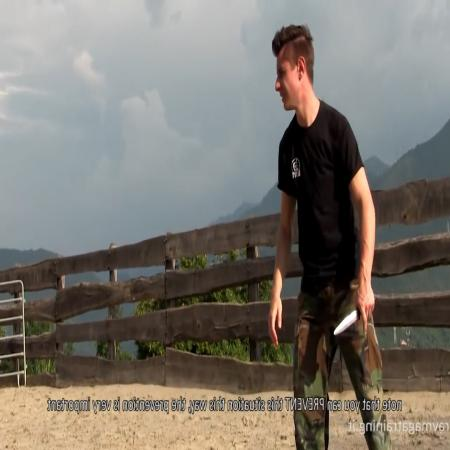long weapon: (330, 292, 379, 343)
